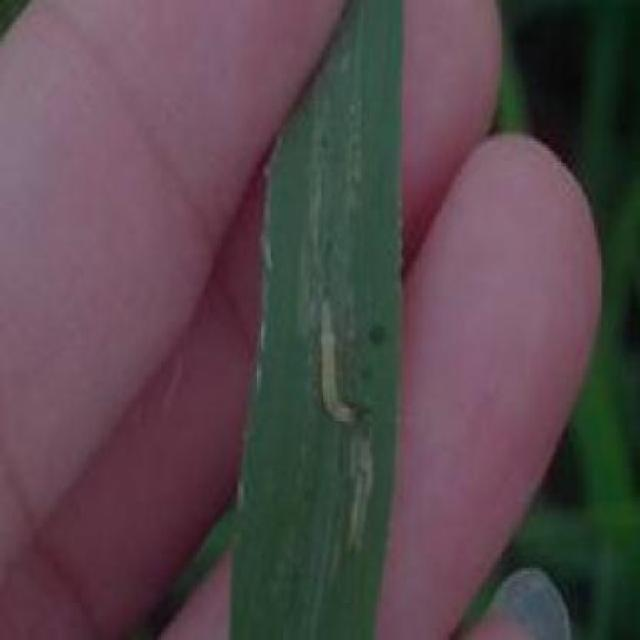leaf-folder: (310, 300, 388, 463)
